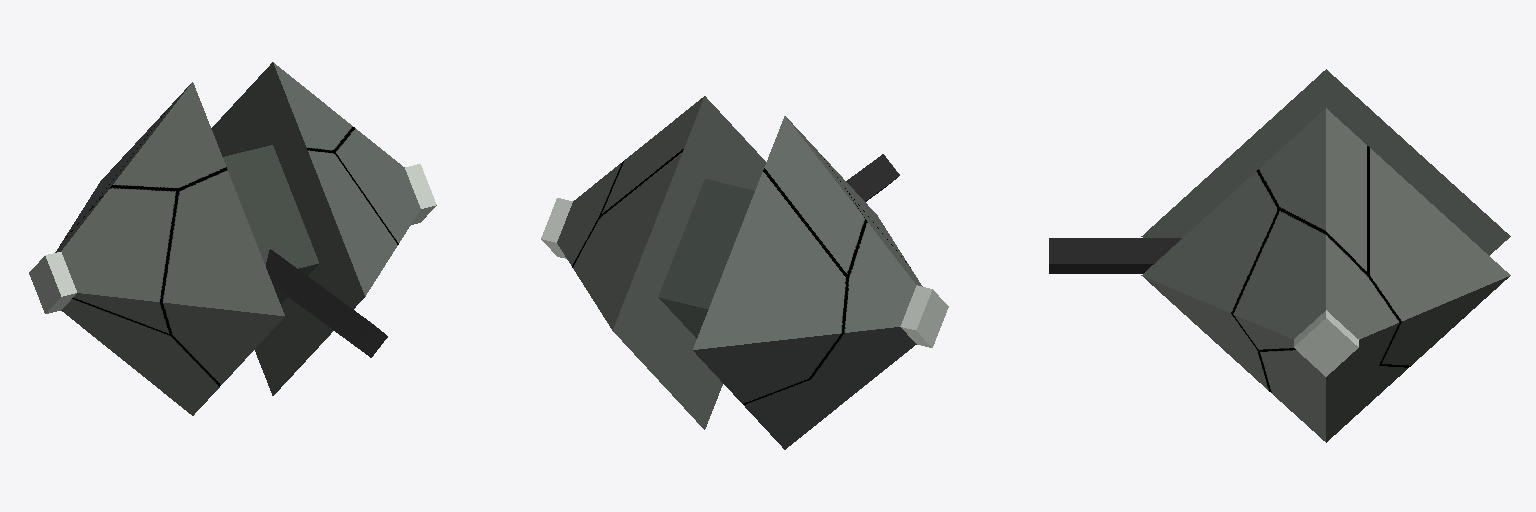
The picture shows the model from 3 angles: view 1: azimuth 30°, elevation 25°; view 2: azimuth 150°, elevation 25°; view 3: azimuth 270°, elevation 25°; orthographic projection.
Parts seen in each view (by area): view 1: Enemy_Cube; view 2: Enemy_Cube; view 3: Enemy_Cube.
Boxes of the visible parts, <box> form: Enemy_Cube: <box>29,62,436,415</box>; Enemy_Cube: <box>541,96,948,449</box>; Enemy_Cube: <box>1049,69,1510,442</box>.
Bounding box in the file's own units: 4.69 × 4 × 5.
Materials: 1 (1 with a texture image).